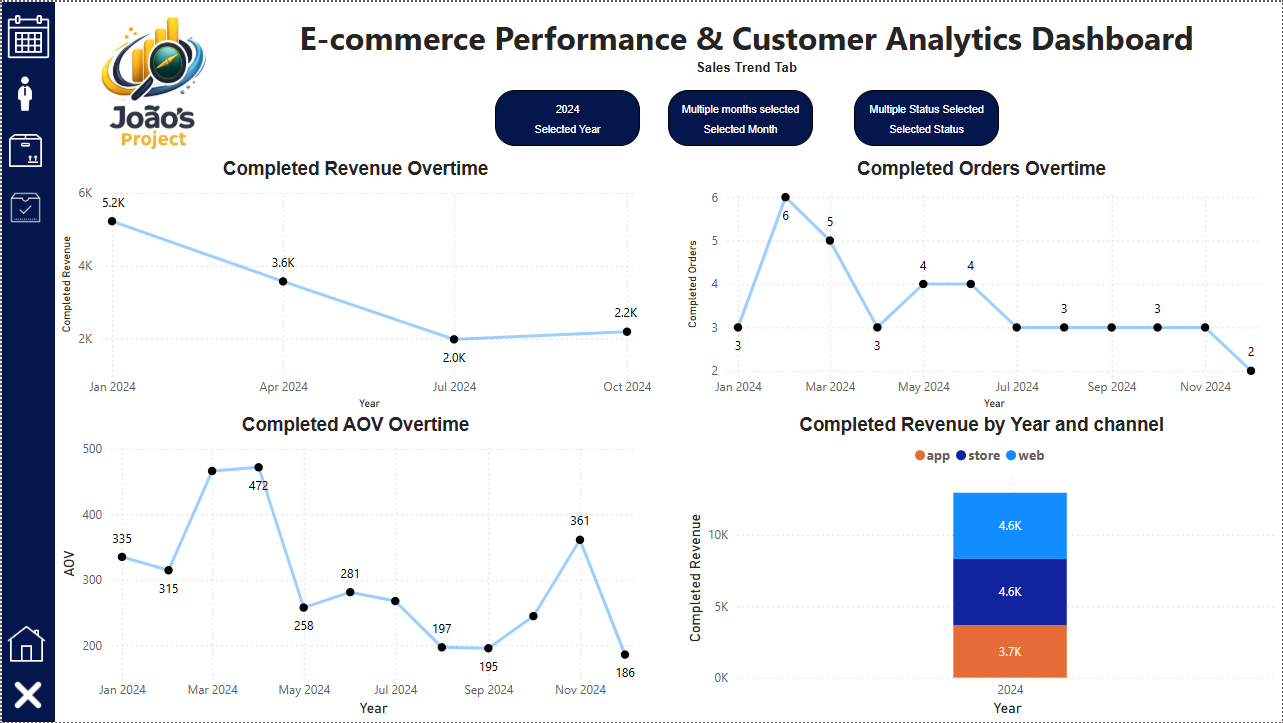

This screenshot's page, from the dashboard's own definition file:
{"tool":"powerbi","page":{"name":"Sales Trends","canvas":[1280,720],"ordinal":2},"visuals":[{"type":"columnChart","fields":{"Category":["dim_date.full_date.Variation.Date Hierarchy.Year","dim_date.full_date.Variation.Date Hierarchy.Quarter","dim_date.full_date.Variation.Date Hierarchy.Month","dim_date.full_date.Variation.Date Hierarchy.Day"],"Series":["fact_order.channel"],"Y":["Measure.Completed Revenue"]},"box":[680,412.2,600,306.7],"z":0},{"type":"image","title":"Logo","box":[45.3,0,211.3,165.9],"z":1000},{"type":"shape","title":"Side Bar","box":[0,0,52.6,720],"z":2000},{"type":"actionButton","title":"Date Filter Button","box":[0,7.9,53.1,54.2],"z":3000},{"type":"lineChart","title":"Completed Revenue Overtime","fields":{"Category":["dim_date.full_date.Variation.Date Hierarchy.Year","dim_date.full_date.Variation.Date Hierarchy.Quarter","dim_date.full_date.Variation.Date Hierarchy.Month","dim_date.full_date.Variation.Date Hierarchy.Day"],"Y":["Measure.Completed Revenue"]},"box":[54.4,155.6,600,256.7],"z":5000},{"type":"actionButton","title":"Executive Overview Tab Button","box":[0,68.7,52.2,46.7],"z":6000},{"type":"actionButton","title":"Data Quality & Notes Tab Button","box":[0,182.4,52.3,46.7],"z":7000},{"type":"actionButton","title":"Product Performance Tab Button","box":[0,125.4,52.2,46.7],"z":9000},{"type":"actionButton","title":"Home Page Tab Button","box":[1.1,618.9,52.2,46.7],"z":10000},{"type":"lineChart","title":"Completed AOV Overtime","fields":{"Category":["dim_date.full_date.Variation.Date Hierarchy.Year","dim_date.full_date.Variation.Date Hierarchy.Quarter","dim_date.full_date.Variation.Date Hierarchy.Month","dim_date.full_date.Variation.Date Hierarchy.Day"],"Y":["Measure.AOV (Completed)"]},"box":[54.4,412.2,600,306.7],"z":10500},{"type":"actionButton","title":"Close Button","box":[0,665.4,52,54.2],"z":13000},{"type":"lineChart","title":"Completed Orders Overtime","fields":{"Category":["dim_date.full_date.Variation.Date Hierarchy.Year","dim_date.full_date.Variation.Date Hierarchy.Quarter","dim_date.full_date.Variation.Date Hierarchy.Month","dim_date.full_date.Variation.Date Hierarchy.Day"],"Y":["Measure.Completed Orders"]},"box":[680,155.6,600,256.7],"z":14000},{"type":"textbox","title":"Report Name Text Box","box":[259,8,972,75],"z":17000},{"type":"card","title":"Selected Month Card","fields":{"Values":["Measure.Selected Month"]},"box":[666,88,145,56],"z":18000},{"type":"card","title":"Selected Year Card","fields":{"Values":["Measure.Selected Year"]},"box":[493,88,145,56],"z":19000},{"type":"card","title":"Selected Status Card","fields":{"Values":["Measure.Selected Status"]},"box":[852,88,145,56],"z":20000}]}

Visuals, with their boxes in screenshot pixels (x1, y1, x2, y2), scaled from the page's 1280x720 canvas onto the 1283x723 screenshot:
columnChart - dim_date.full_date.Variation.Date Hierarchy.Year x dim_date.full_date.Variation.Date Hierarchy.Quarter: x1=682 y1=414 x2=1282 y2=722
"Logo" image: x1=45 y1=0 x2=257 y2=167
"Side Bar" shape: x1=0 y1=0 x2=53 y2=722
"Date Filter Button" actionButton: x1=0 y1=8 x2=53 y2=62
"Completed Revenue Overtime" lineChart: x1=55 y1=156 x2=656 y2=414
"Executive Overview Tab Button" actionButton: x1=0 y1=69 x2=52 y2=116
"Data Quality & Notes Tab Button" actionButton: x1=0 y1=183 x2=52 y2=230
"Product Performance Tab Button" actionButton: x1=0 y1=126 x2=52 y2=173
"Home Page Tab Button" actionButton: x1=1 y1=621 x2=53 y2=668
"Completed AOV Overtime" lineChart: x1=55 y1=414 x2=656 y2=722
"Close Button" actionButton: x1=0 y1=668 x2=52 y2=722
"Completed Orders Overtime" lineChart: x1=682 y1=156 x2=1282 y2=414
"Report Name Text Box" textbox: x1=260 y1=8 x2=1234 y2=83
"Selected Month Card" card: x1=668 y1=88 x2=813 y2=145
"Selected Year Card" card: x1=494 y1=88 x2=639 y2=145
"Selected Status Card" card: x1=854 y1=88 x2=999 y2=145
